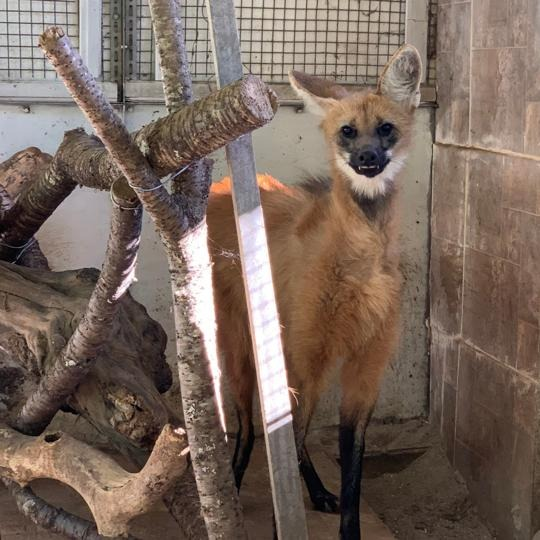LoboGuara: (201, 36, 427, 526)
